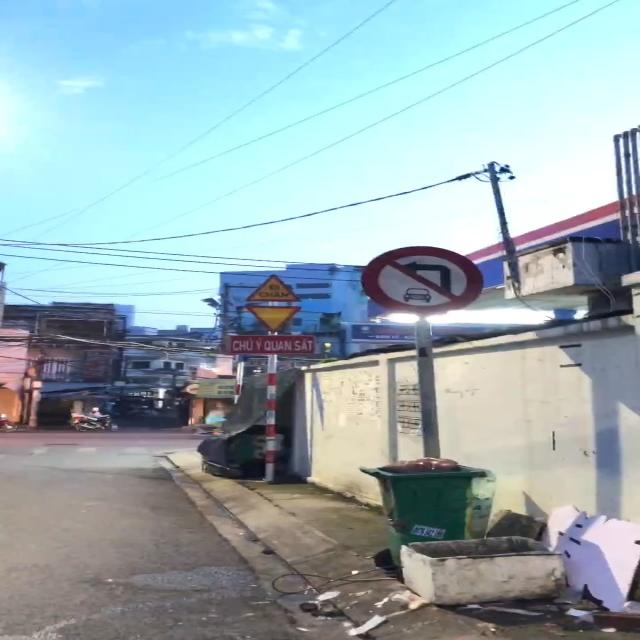Bien bao di cham: (239, 271, 306, 300)
Bien bao giao nhau voi duong uu tien: (238, 303, 316, 333)
